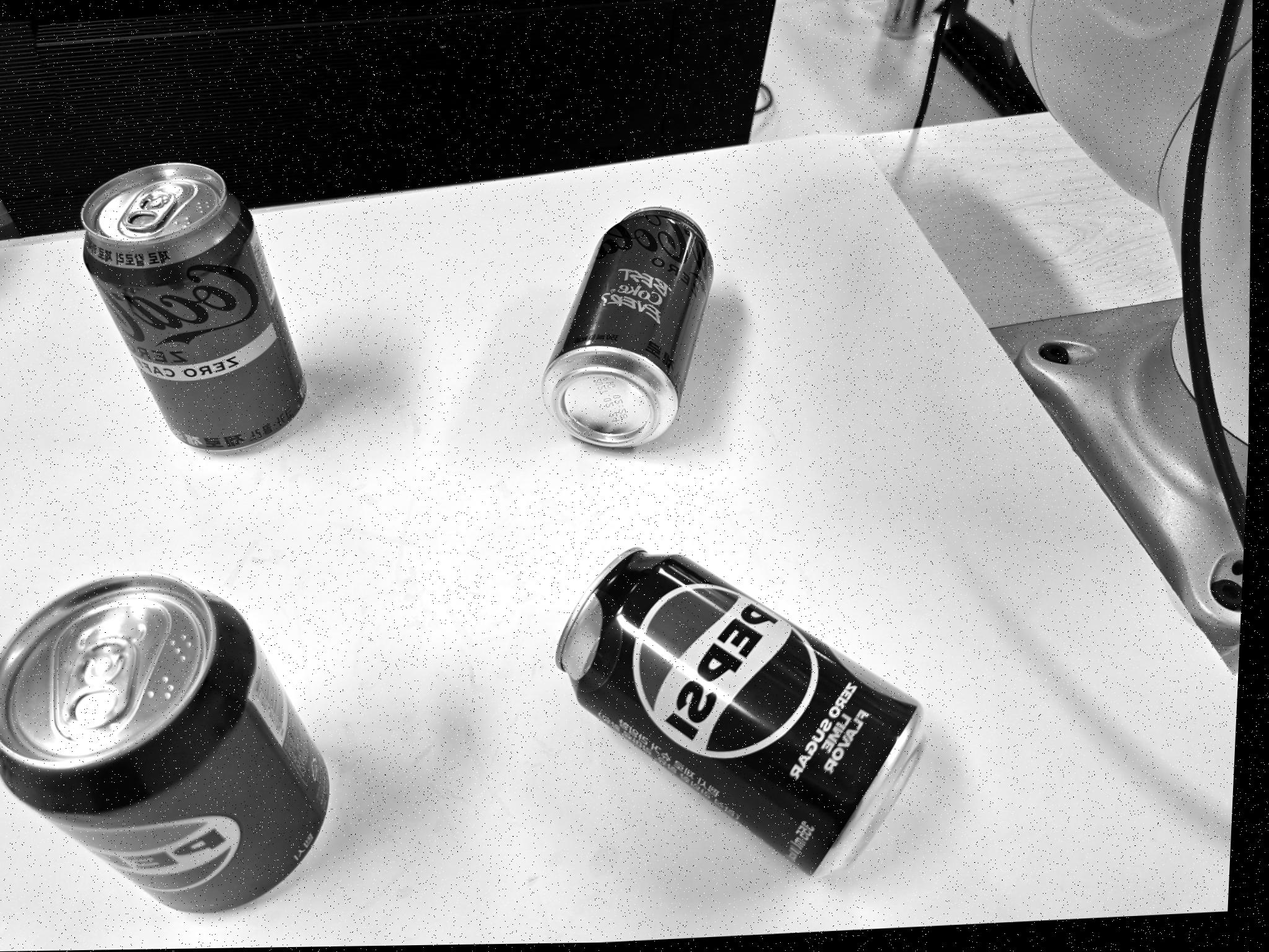can_coke_decaf: (82, 163, 305, 453)
can_coke_zero: (543, 207, 713, 448)
can_pepsi: (0, 573, 331, 912)
can_pepsi_zero: (558, 549, 920, 876)
